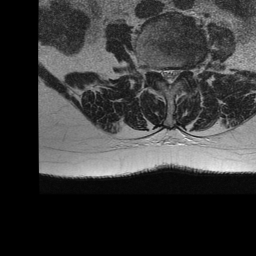CCS_stenosis: (167, 62, 173, 91)
LFS_severe_stenosis: (181, 61, 187, 79)
LLS_stenosis: (173, 63, 181, 83)
RFS_severe_stenosis: (153, 62, 161, 80)
RLS_normal: (160, 63, 167, 85)
